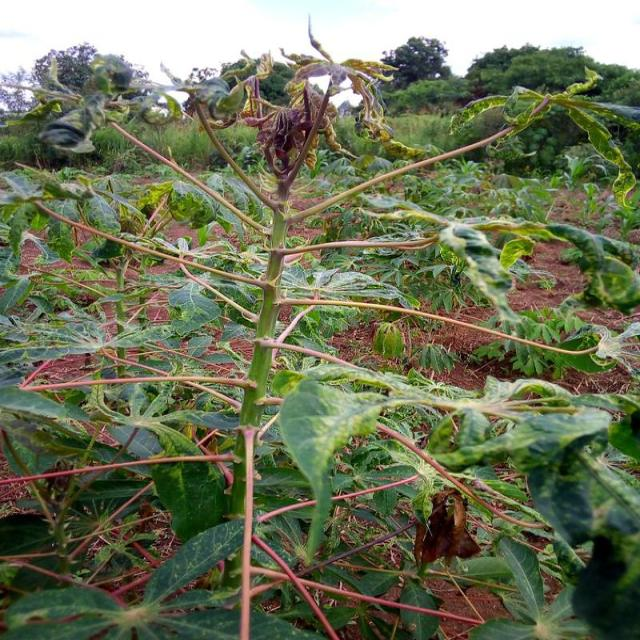cassava leaf: (0, 20, 638, 637), (276, 372, 386, 562)
